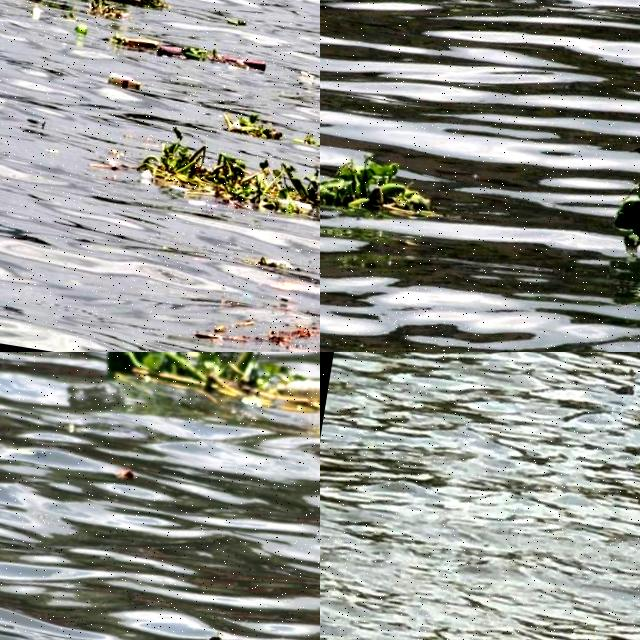water-hyacinth: (63, 353, 321, 444), (138, 135, 321, 225), (321, 146, 439, 230), (1, 1, 176, 47), (612, 146, 640, 283)
